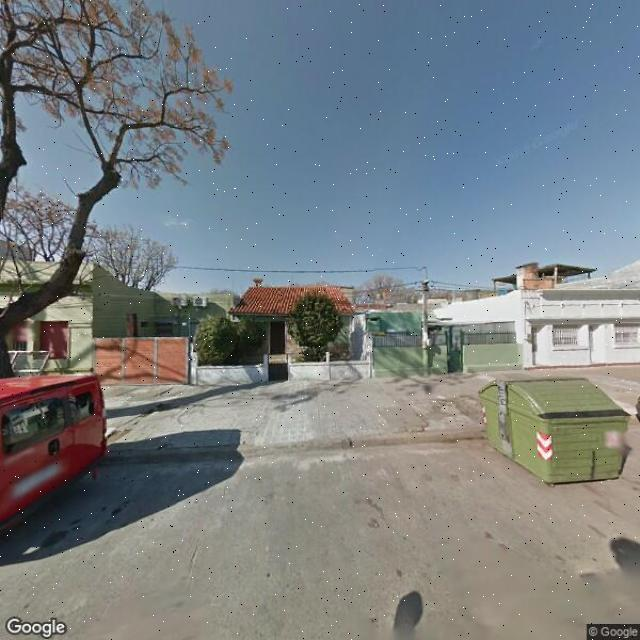garbage container: (469, 366, 637, 500)
